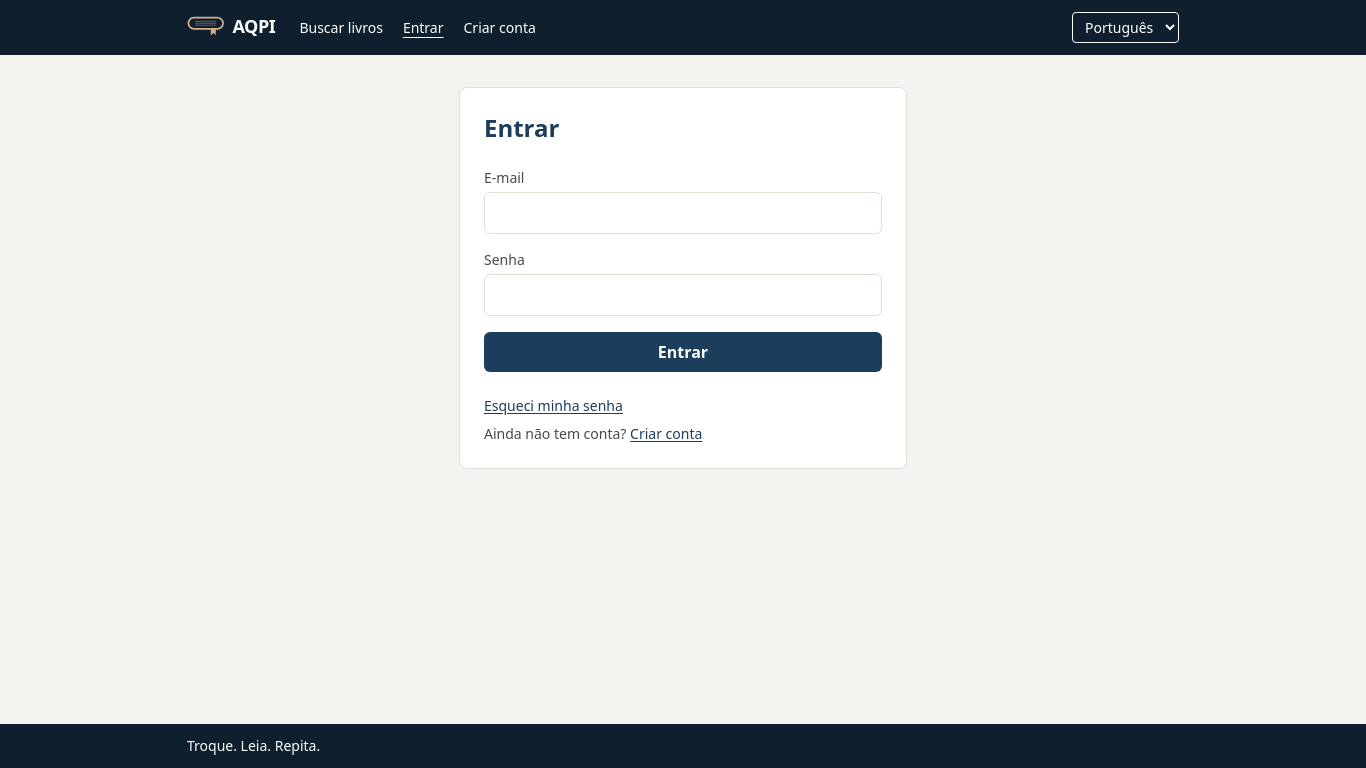
Scenario: auth flow › logs in, lands on the profile and shows the starter credit
Step 1. Type "ana@example.test" into the field labelled "E-mail" → (683, 213), box [484,192,882,234]
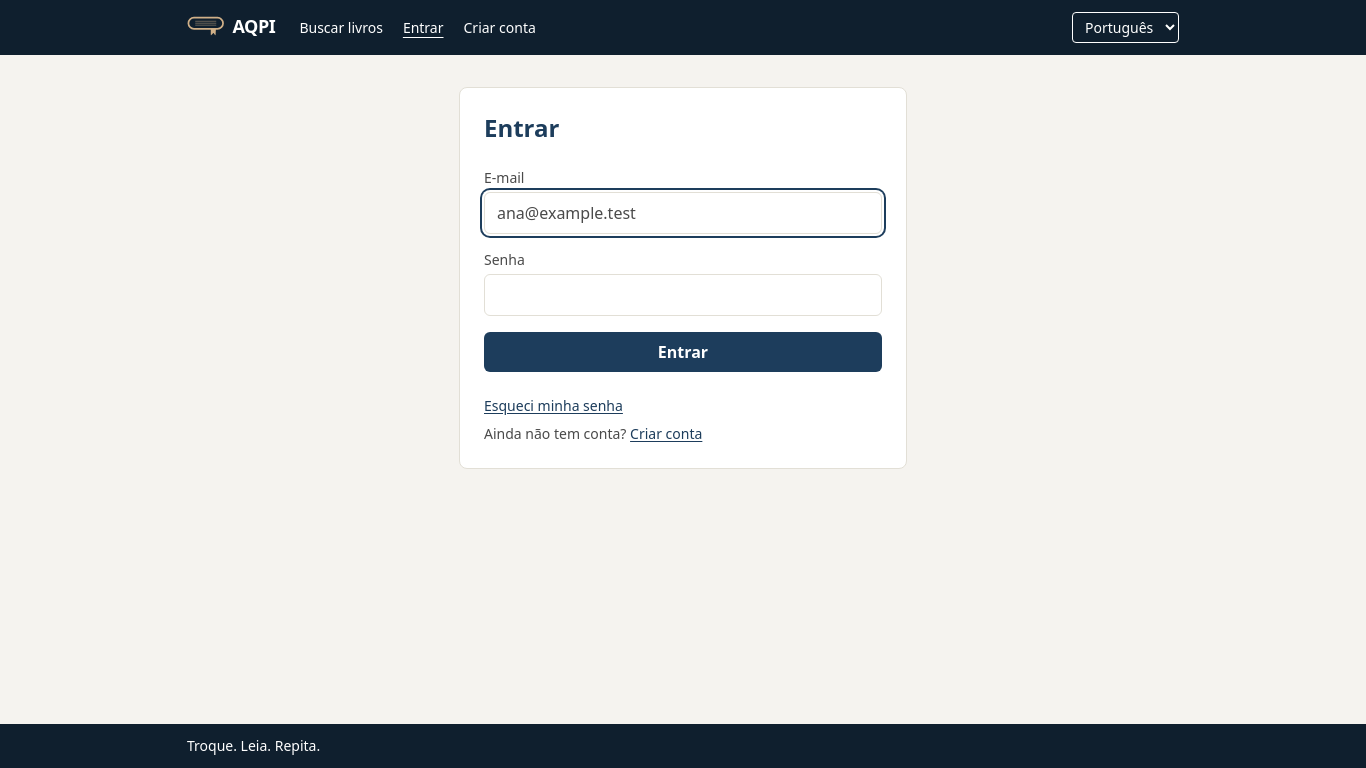
Step 2. Type "correct horse battery" into the password field labelled "Senha" → (683, 295), box [484,274,882,316]
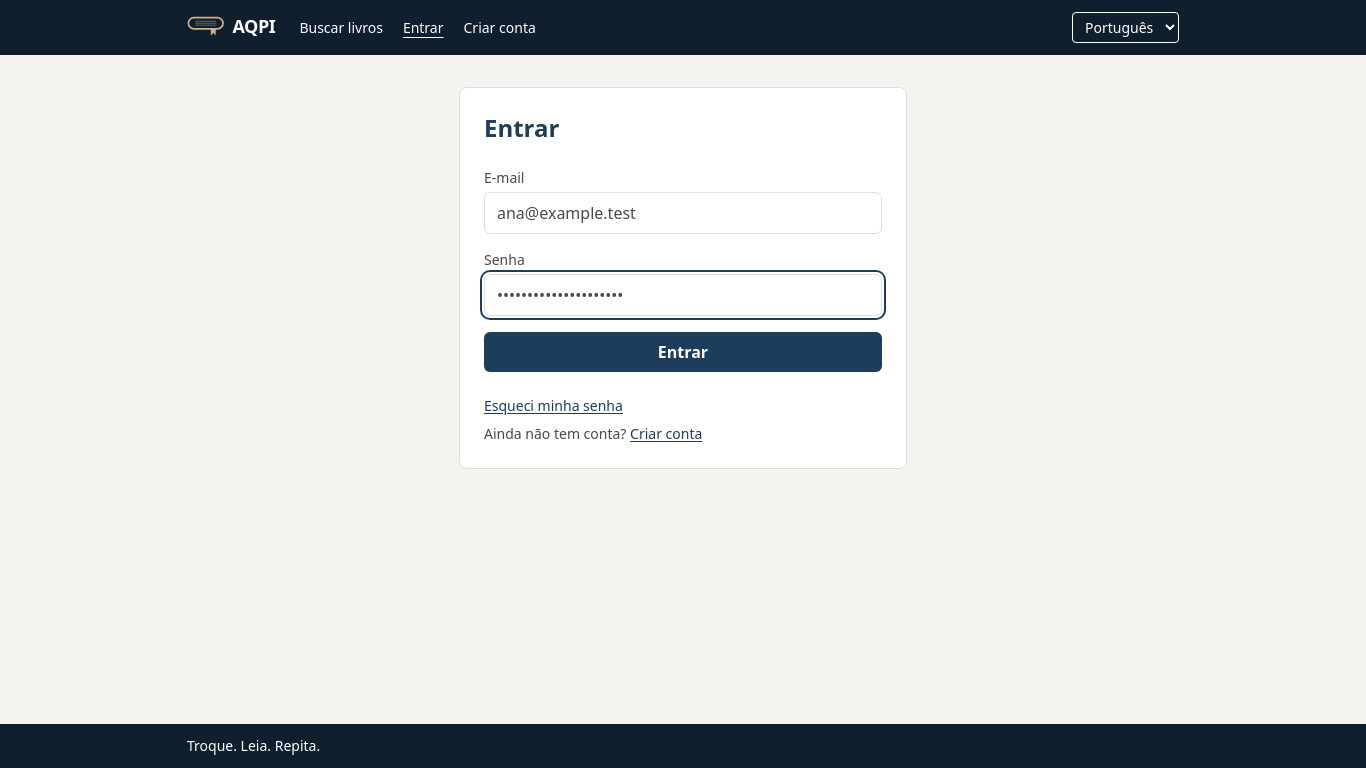
Step 3. Click the button "Entrar" → (683, 352), box [484,332,882,372]
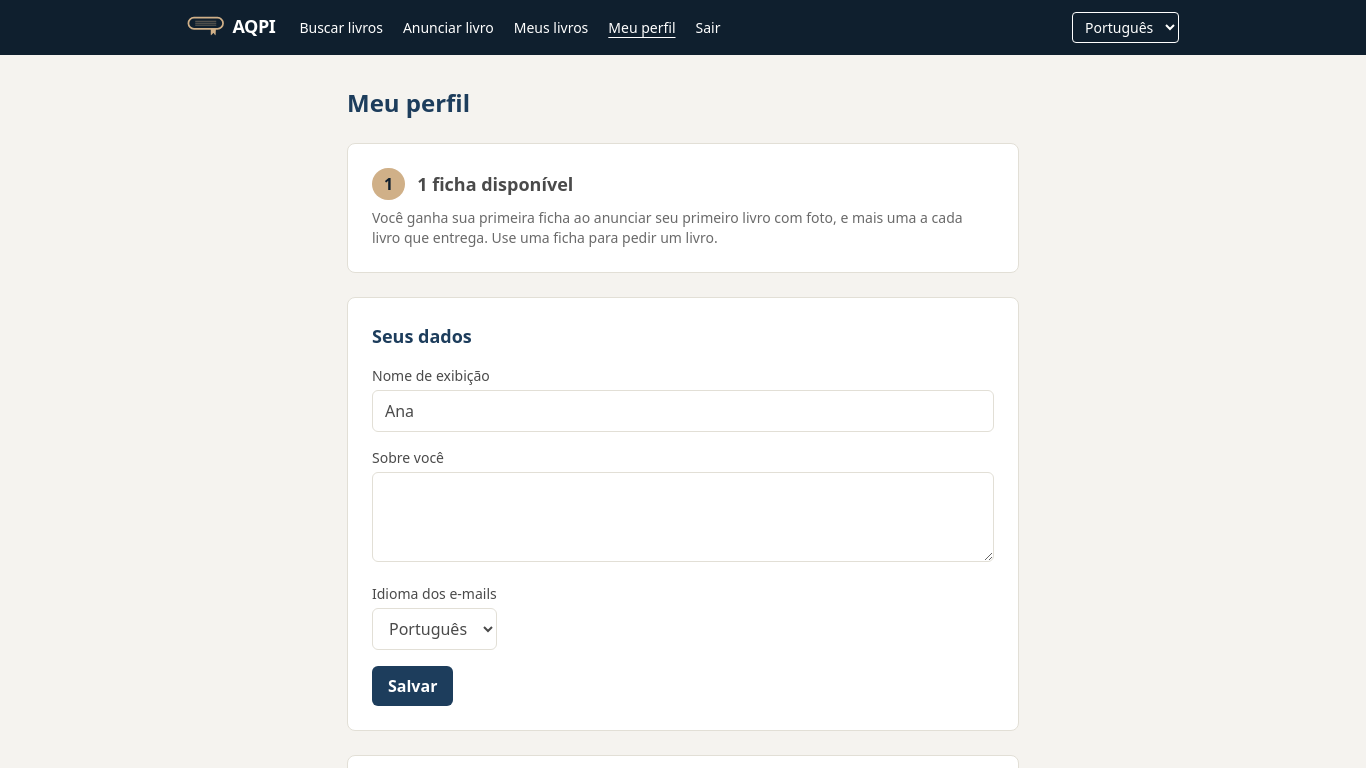
Check: the heading "Meu perfil" is shown, box [347,86,470,119]
Check: the text "1 ficha disponível" is shown, box [417,172,573,196]
